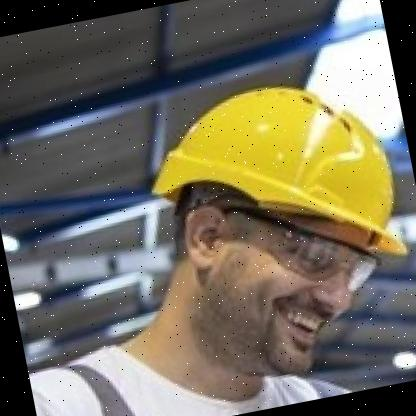capacete: (125, 56, 405, 259)
oculos: (244, 194, 390, 307)
